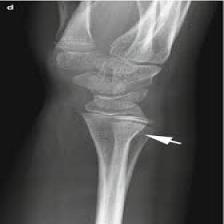greenstick-fracture: (4, 0, 220, 224)
